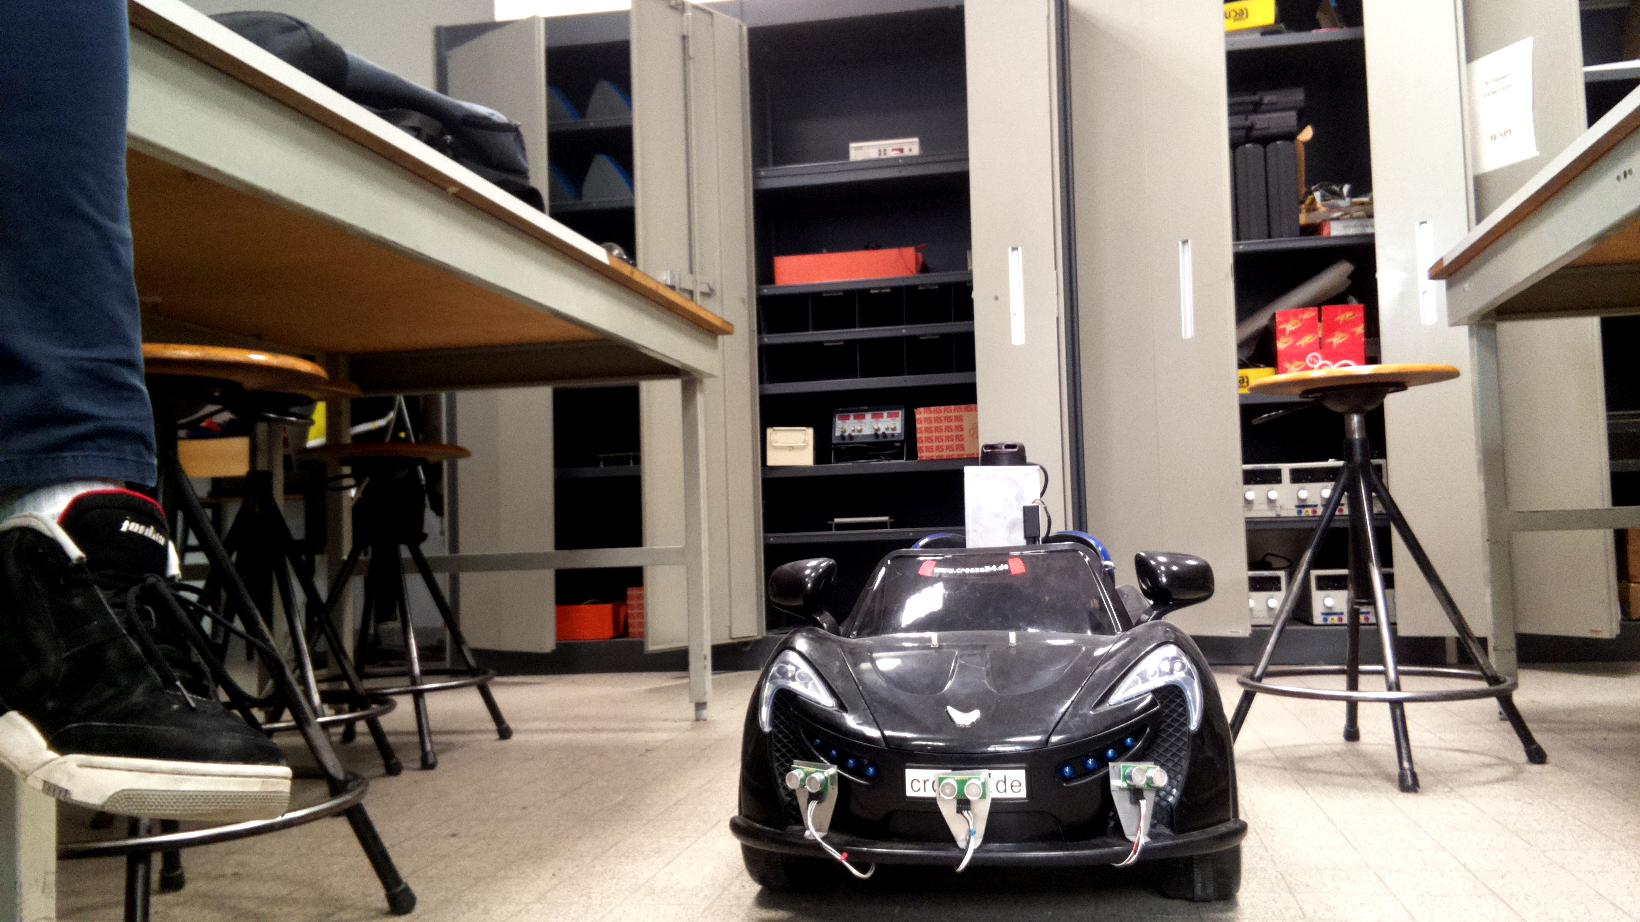big: (736, 440, 1264, 902)
